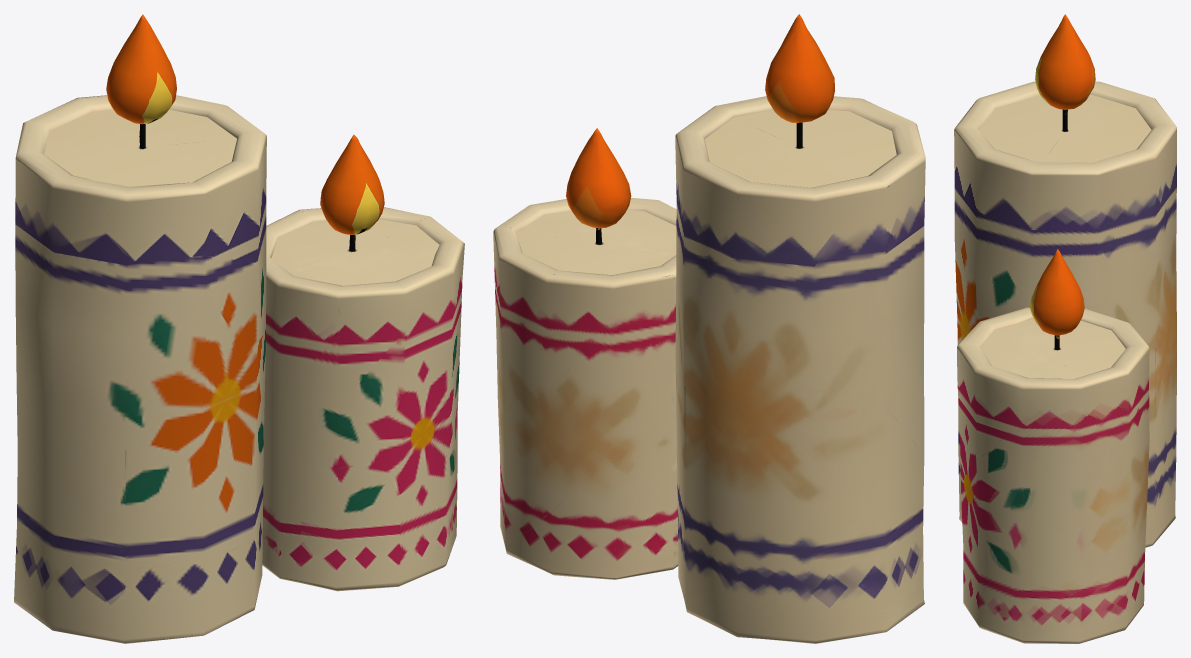
Rendered from velas.glb.
3 renders of one model, left to right at view 1: azimuth 30°, elevation 25°; view 2: azimuth 150°, elevation 25°; view 3: azimuth 270°, elevation 25°, orthographic. The views are drawn at different scales.
Visible parts, largest first — view 1: mesh_node; view 2: mesh_node; view 3: mesh_node.
Boxes of the visible parts, x1=… form: mesh_node: x1=14, y1=14, x2=464, y2=643; mesh_node: x1=493, y1=14, x2=925, y2=643; mesh_node: x1=954, y1=14, x2=1176, y2=643.
Size of the model in its own units: 0.7324 by 1 by 0.3984.
1 material, 1 textured.
